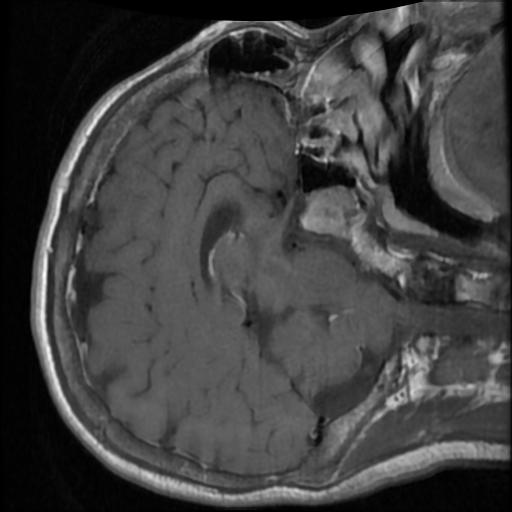pituitary tumour: (296, 185, 362, 235)
